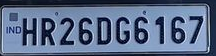1: (155, 15, 167, 45)
2: (59, 17, 76, 46)
6: (77, 16, 94, 45), (170, 15, 186, 45), (134, 16, 150, 45)
7: (188, 14, 204, 45)
D: (96, 17, 113, 47)
G: (114, 16, 132, 45)
H: (21, 17, 40, 47)
R: (40, 17, 57, 47)
